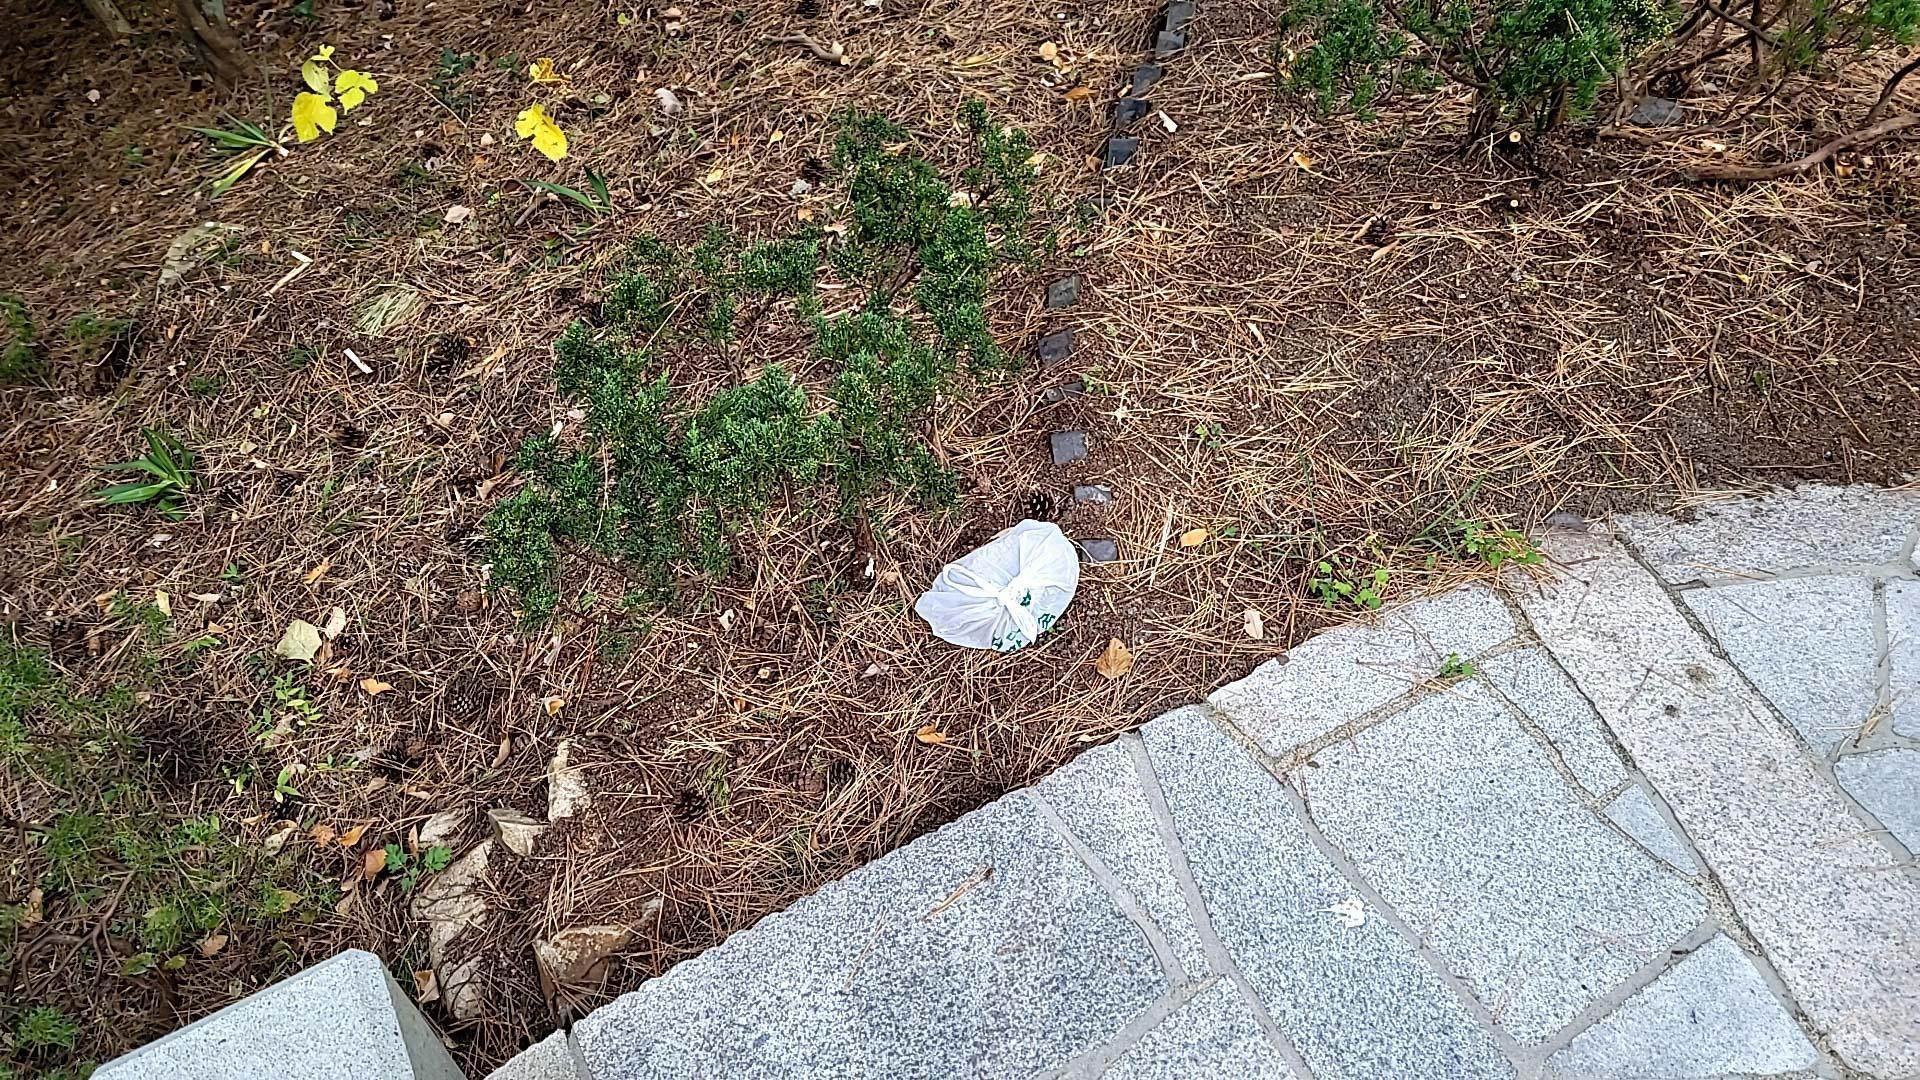white_bag: (895, 510, 1084, 658)
